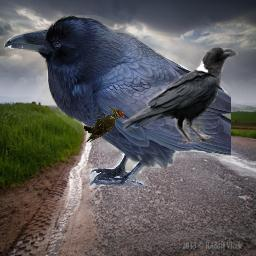Crow: (4, 15, 231, 186), (121, 43, 239, 145)
Woodpecker: (84, 106, 124, 143)
